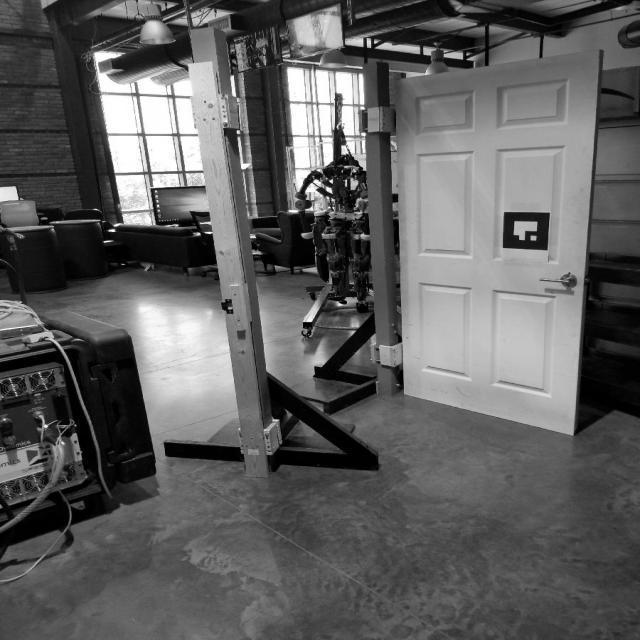door: (392, 47, 606, 439), (536, 271, 580, 291)
